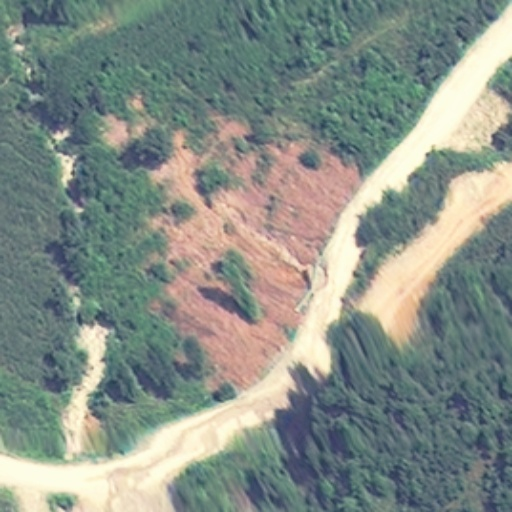landslide: (115, 94, 362, 401)
